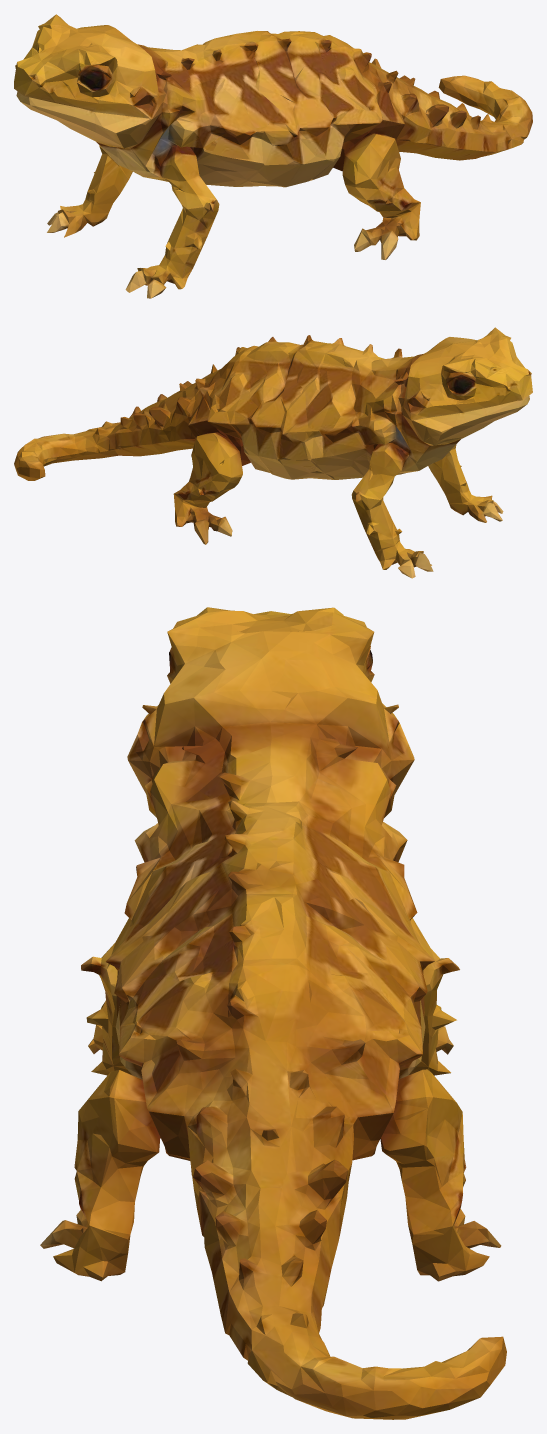
File: desert_lizard.glb
3 views of the same model, one above another, from view 1: azimuth 30°, elevation 25°; view 2: azimuth 150°, elevation 25°; view 3: azimuth 270°, elevation 25° (orthographic). The views are drawn at different scales.
Parts seen in each view (by area): view 1: tripo_node_0ab49aad-e519-4d8b-9bc0-1bd6ab7665de; view 2: tripo_node_0ab49aad-e519-4d8b-9bc0-1bd6ab7665de; view 3: tripo_node_0ab49aad-e519-4d8b-9bc0-1bd6ab7665de.
Part boxes in pixels (left/top/right/bottom): tripo_node_0ab49aad-e519-4d8b-9bc0-1bd6ab7665de: left=14, top=14, right=532, bottom=298; tripo_node_0ab49aad-e519-4d8b-9bc0-1bd6ab7665de: left=14, top=327, right=532, bottom=578; tripo_node_0ab49aad-e519-4d8b-9bc0-1bd6ab7665de: left=40, top=607, right=506, bottom=1419.
Size of the model in its own units: 0.9998 by 0.4191 by 0.4247.
1 material, 1 textured.
